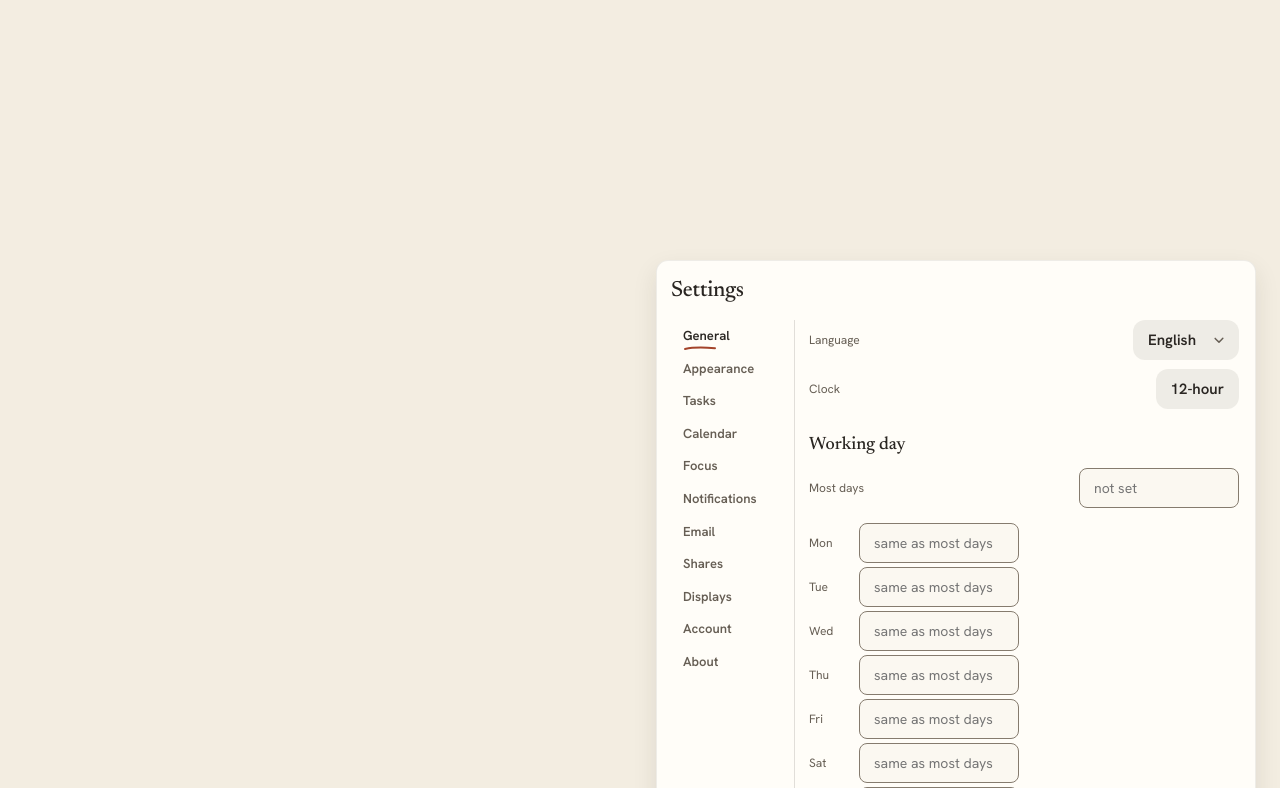
<SettingsMenu> tidied › folds the overdue levers under a line that says what is set
This screenshot has width=1280, height=788.
(page scrolled)
Click the tab "Tasks".
click(728, 401)  # box [671,385,786,417]
(page scrolled)
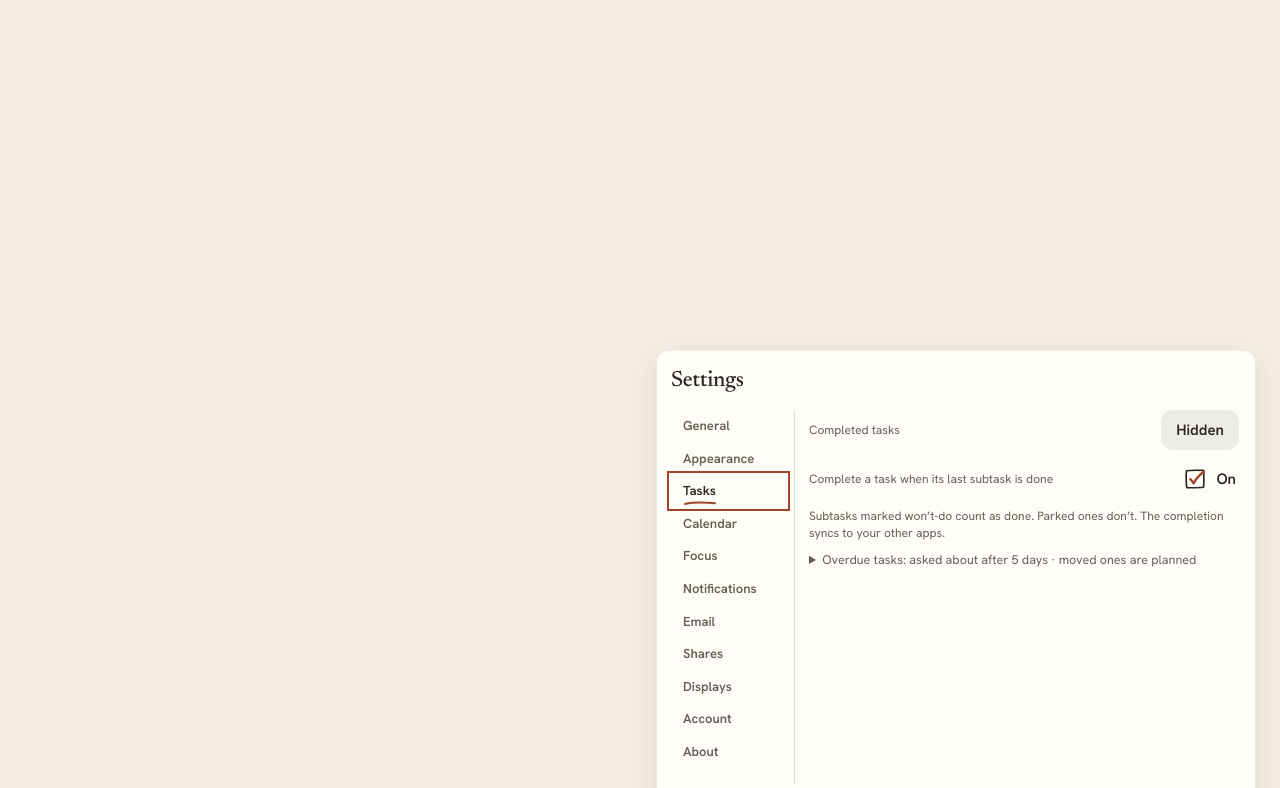
Click the heading "Overdue tasks: asked about after 5 days · moved ones are planned".
click(1024, 560)  # box [809,551,1239,569]
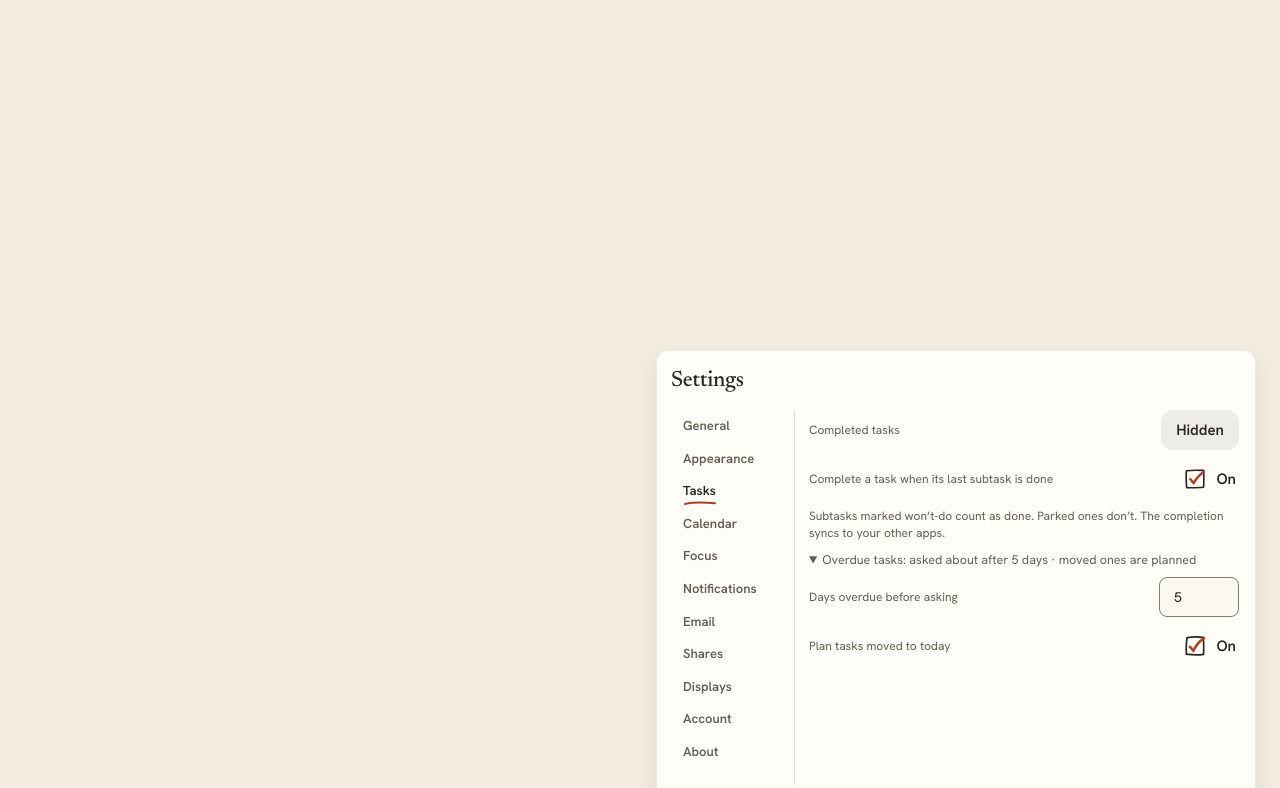
Check: the number field labelled "Days overdue before asking" holds "5", box [1159,577,1239,617]
